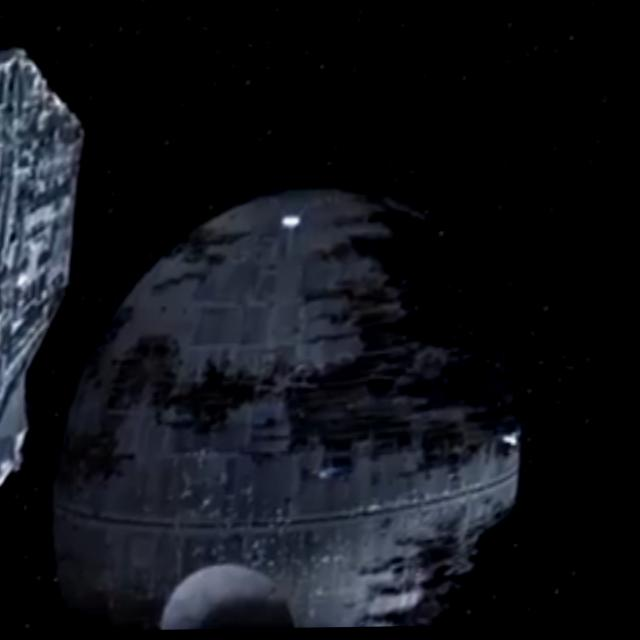deathStar: (57, 176, 545, 639)
